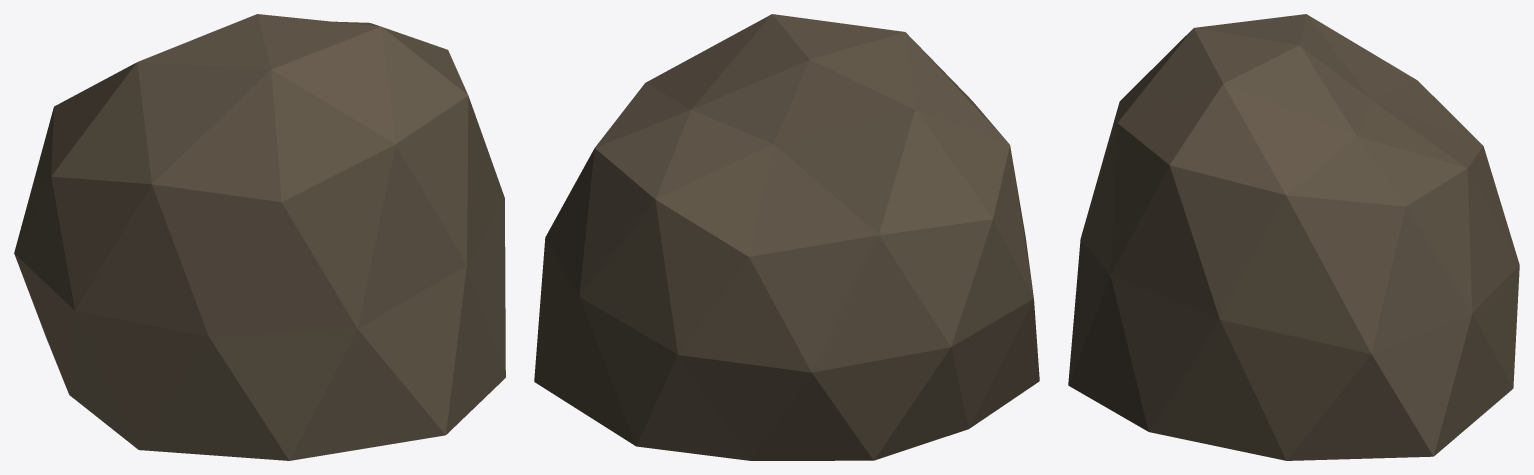
Rendered from roca3.fbx.
The picture shows the model from 3 angles, left to right: view 1: azimuth 30°, elevation 25°; view 2: azimuth 150°, elevation 25°; view 3: azimuth 270°, elevation 25°; orthographic projection. The views are drawn at different scales.
Visible parts, largest first — view 1: Icosphere.003; view 2: Icosphere.003; view 3: Icosphere.003.
Boxes of the visible parts, x1,y1,x2,y2 form: Icosphere.003: [14, 14, 505, 460]; Icosphere.003: [534, 14, 1039, 460]; Icosphere.003: [1068, 14, 1519, 460].
Size of the model in its own units: 133 by 97.31 by 126.
